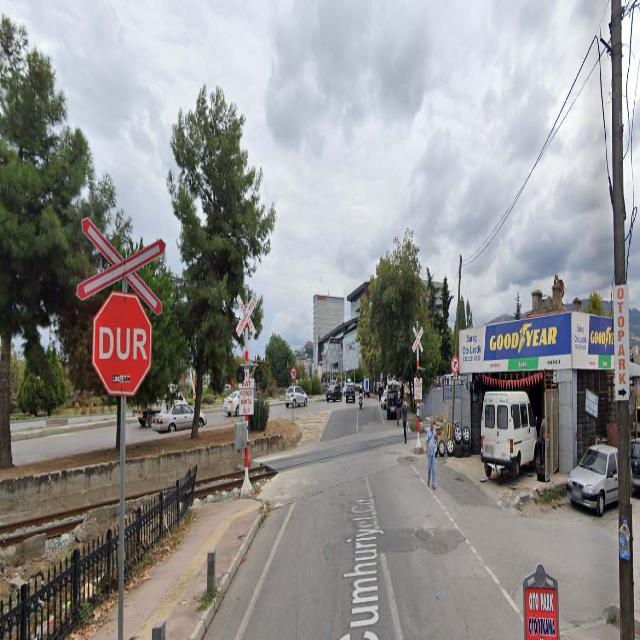dur: (91, 294, 152, 396)
sagadonulmez: (451, 356, 459, 374)
soladonulmez: (290, 367, 296, 380)
